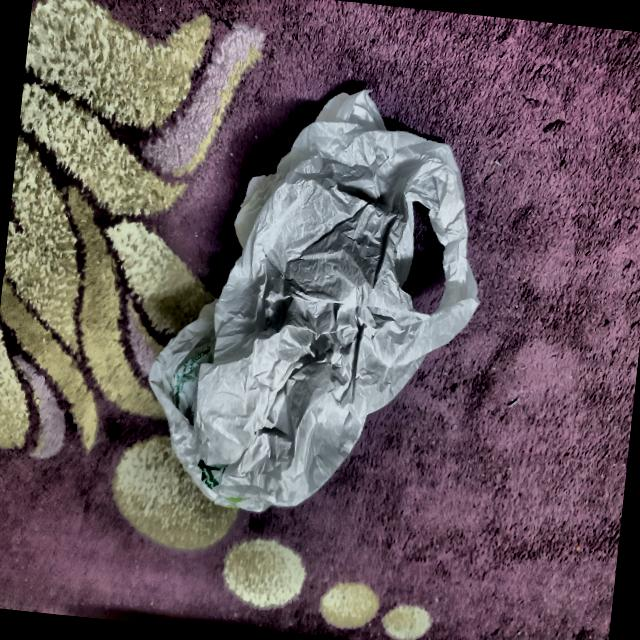plastic bag: (129, 59, 503, 548)
